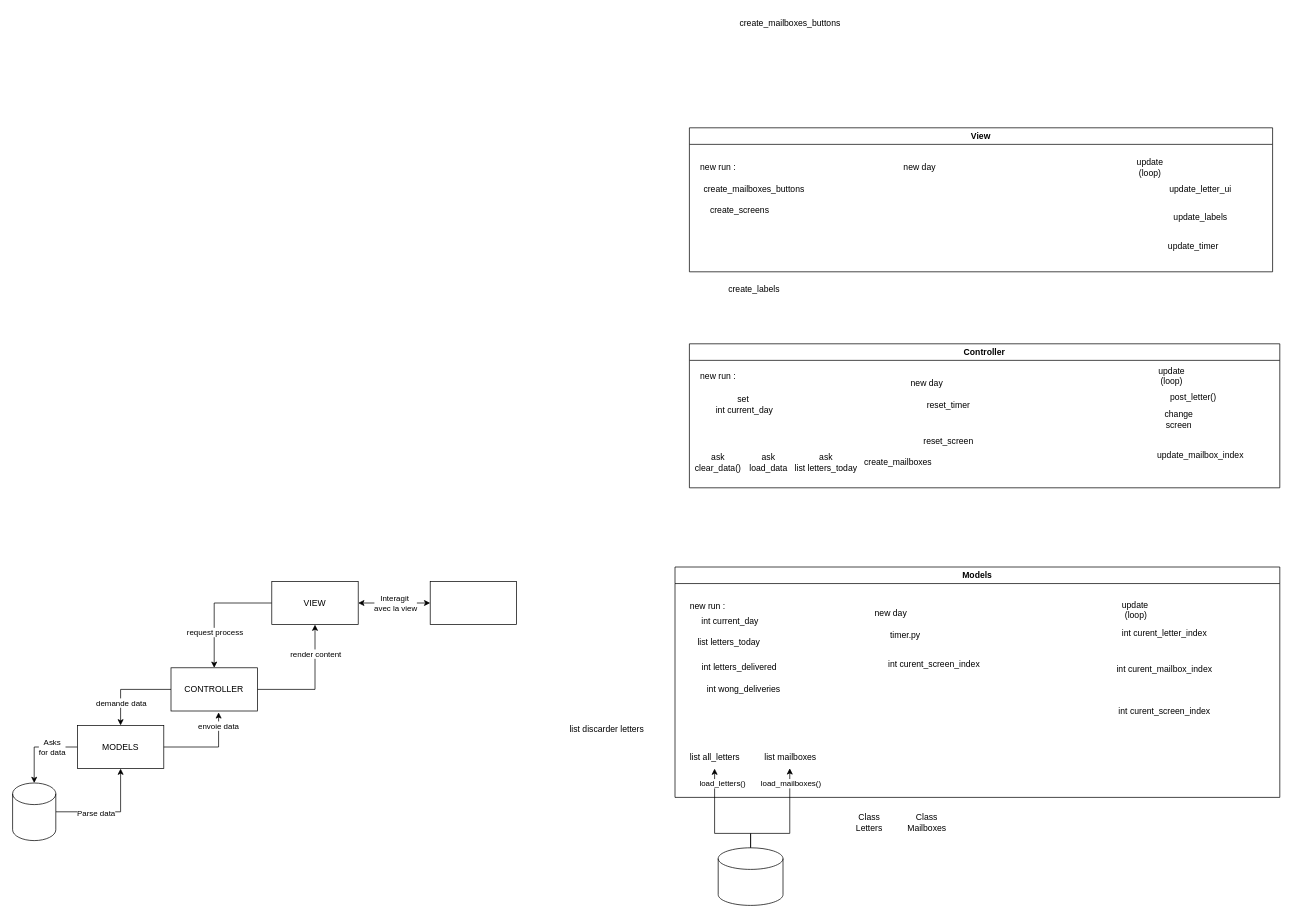
This 1292x918 diagram has some shape labels left out. Here are the shapes that lost their labels. From the top down, the box of each, then its label:
(429, 581, 517, 625): PLAYER
(12, 782, 56, 841): DB
(717, 847, 783, 905): Mailboxes.csv Letters.csv
